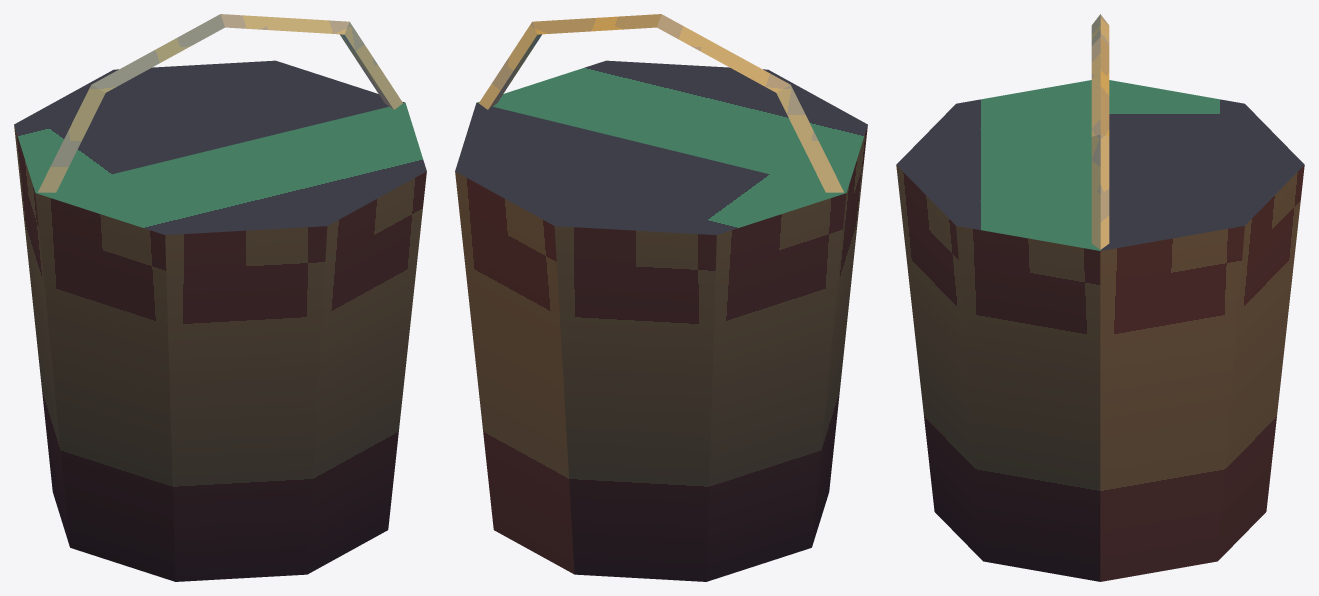
The model's file is wprop.bucket.glb.
The picture shows the model from 3 angles, left to right: view 1: azimuth 30°, elevation 25°; view 2: azimuth 150°, elevation 25°; view 3: azimuth 270°, elevation 25°; orthographic projection. The views are drawn at different scales.
Visible parts, largest first — view 1: kit_bucket, kit_bail; view 2: kit_bucket, kit_bail; view 3: kit_bucket, kit_bail.
Part boxes in pixels (left/top/right/bottom): kit_bucket: left=14, top=60, right=426, bottom=581; kit_bail: left=38, top=14, right=402, bottom=192; kit_bucket: left=455, top=60, right=867, bottom=581; kit_bail: left=479, top=14, right=843, bottom=192; kit_bucket: left=896, top=80, right=1304, bottom=581; kit_bail: left=1091, top=14, right=1109, bottom=249.
Size of the model in its own units: 0.32 by 0.4106 by 0.32.
4 materials, 4 textured.
